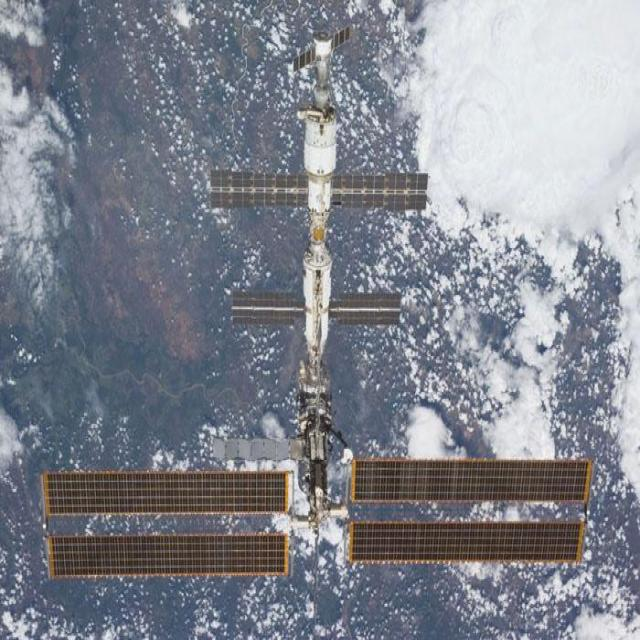medium_debris: (210, 32, 428, 529), (344, 458, 592, 564), (42, 470, 291, 522), (48, 530, 290, 579)
